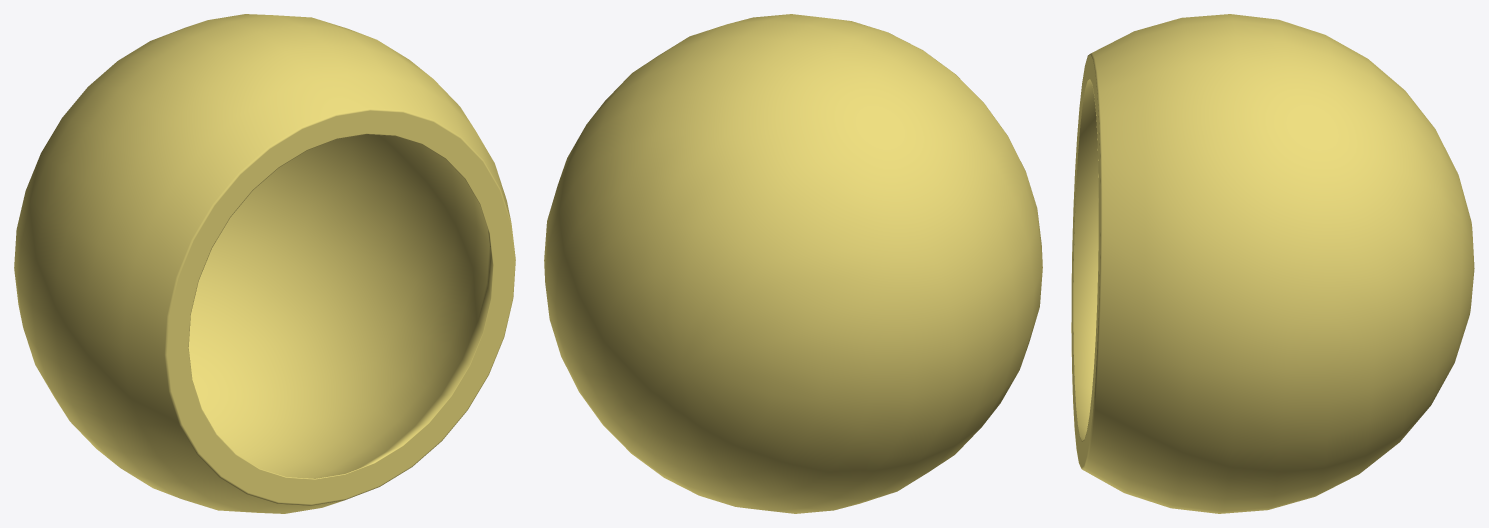
Rendered from posterior-segment-of-eyeball-l.glb.
3 views of the same model, side by side, from view 1: azimuth 30°, elevation 25°; view 2: azimuth 150°, elevation 25°; view 3: azimuth 270°, elevation 25° (orthographic).
Parts seen in each view (by area): view 1: Posterior segment of eyeball.l; view 2: Posterior segment of eyeball.l; view 3: Posterior segment of eyeball.l.
Boxes of the visible parts, x1,y1,x2,y2 form: Posterior segment of eyeball.l: (14, 14, 515, 513); Posterior segment of eyeball.l: (544, 14, 1042, 513); Posterior segment of eyeball.l: (1071, 14, 1474, 513).
Bounding box in the file's own units: 0.0242 × 0.0242 × 0.0195.
